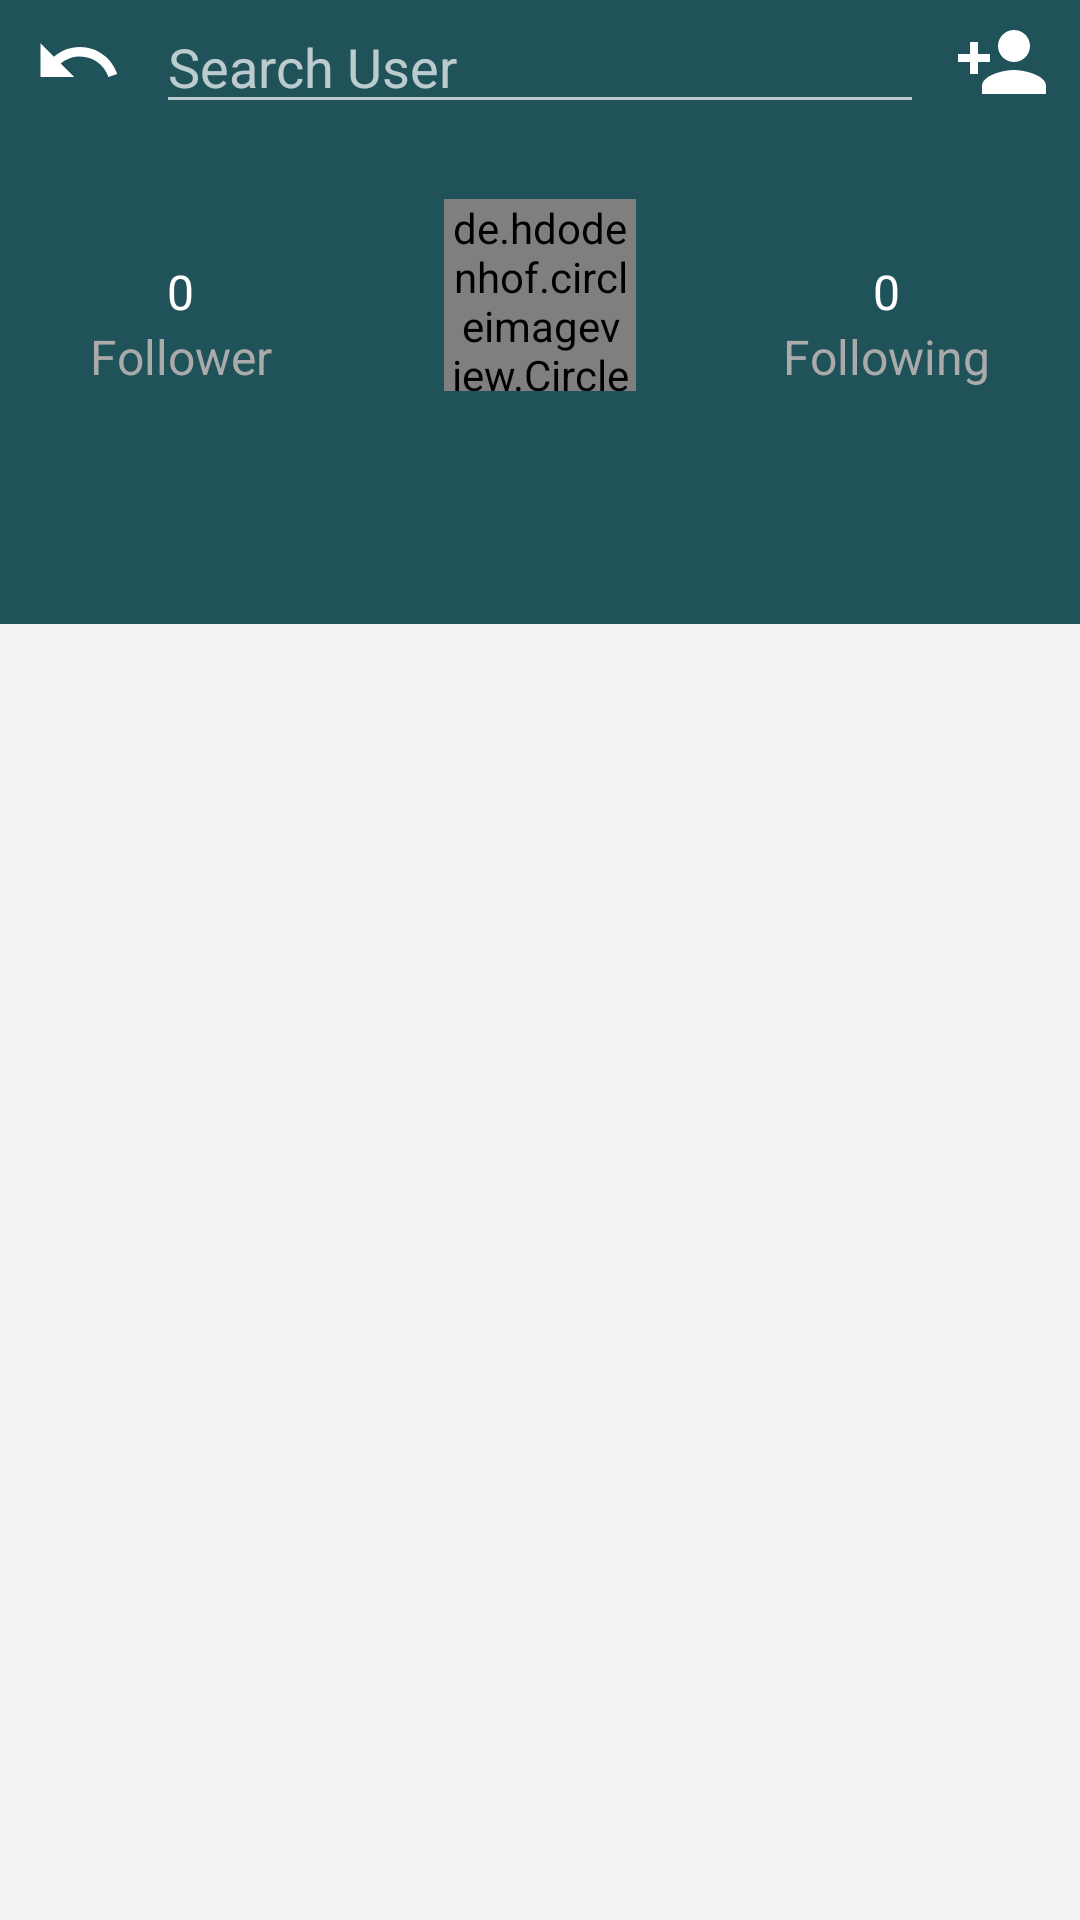

Named icons in this screenshot (1080 × 1920) and their bounding boxes, {"left": x1, "top": y1, "right": x2, "bottom": y2}:
back: {"left": 40, "top": 43, "right": 117, "bottom": 77}
person add: {"left": 958, "top": 30, "right": 1046, "bottom": 94}
